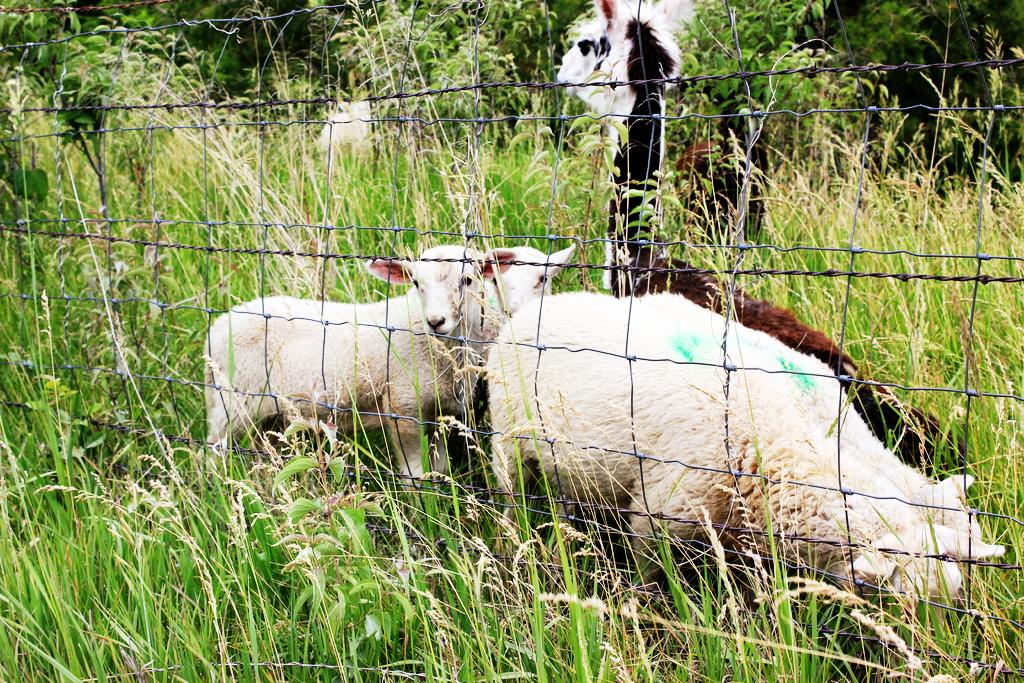Sheep: (490, 285, 1007, 614), (195, 244, 518, 506), (480, 246, 577, 354)
